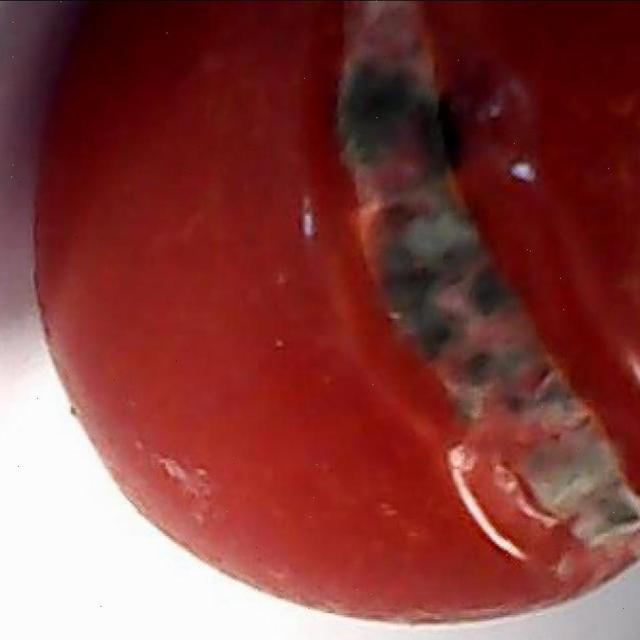Cracking Fruit: (216, 0, 427, 396)
